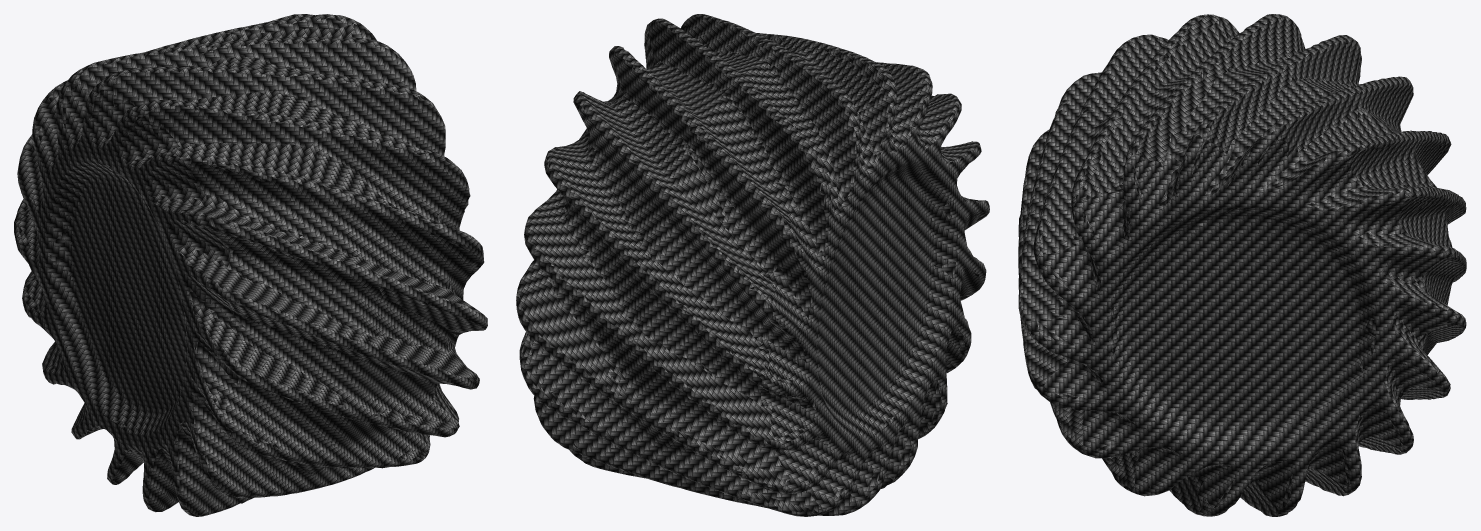
The model's file is Wheel_lowPoly.dae.
3 renders of one model, left to right at view 1: azimuth 30°, elevation 25°; view 2: azimuth 150°, elevation 25°; view 3: azimuth 270°, elevation 25°, orthographic. The views are drawn at different scales.
Visible parts, largest first — view 1: Model; view 2: Model; view 3: Model.
Boxes of the visible parts, x1,y1,x2,y2 form: Model: [14, 14, 487, 516]; Model: [516, 14, 989, 516]; Model: [1018, 14, 1466, 516].
Size of the model in its own units: 0.2 by 0.2999 by 0.2999.
1 material, 1 textured.
